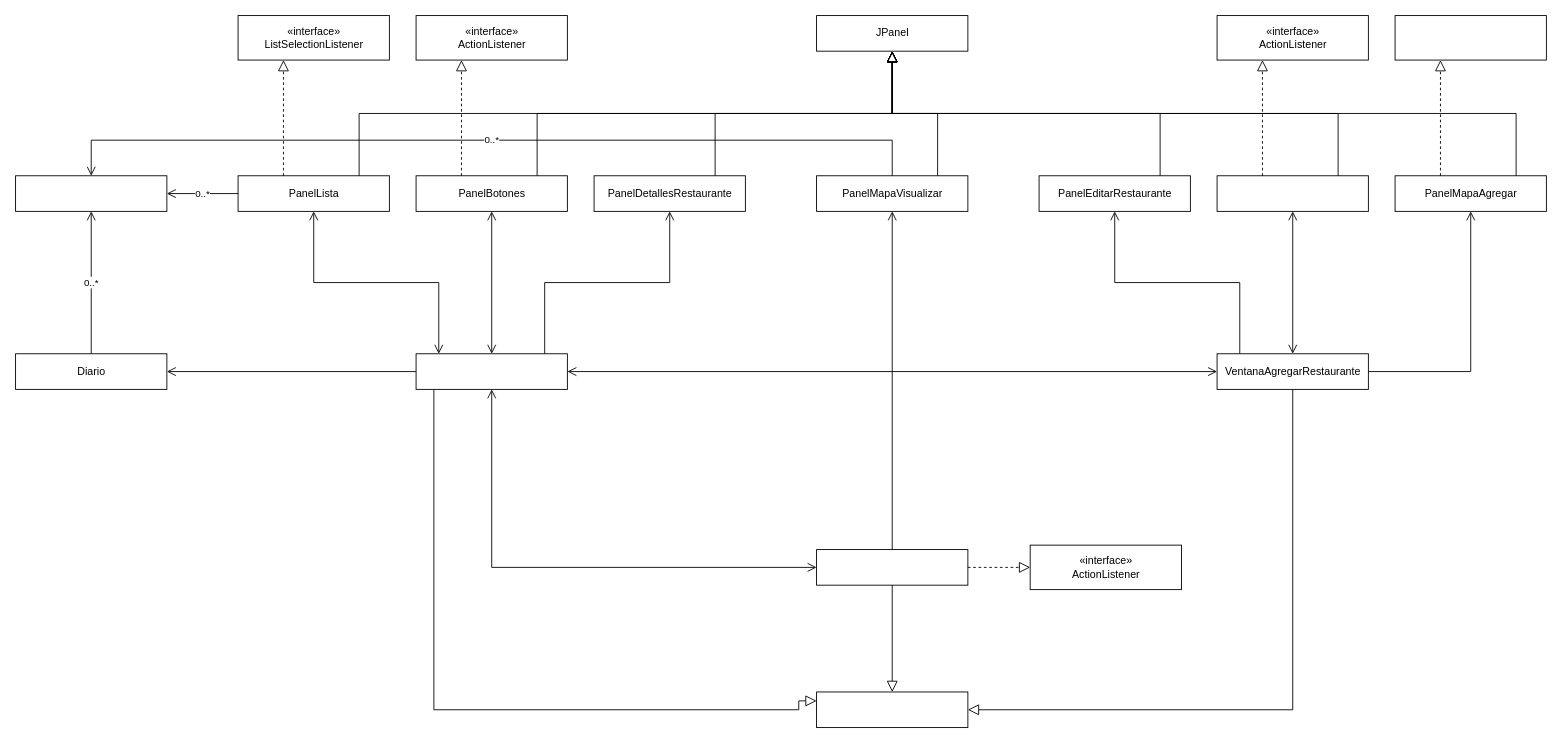
Some shapes in this 1562 by 743 pixel diagram are drawn without their labels. The centre of each missing label's shape, as x and y in pixels:
JFrame: point (892, 709)
PanelBotonesAgregar: point (1292, 193)
Restaurante: point (91, 193)
VentanaMapa: point (892, 567)
VentanaPrincipal: point (491, 371)
«interface» MouseListener: point (1470, 37)
